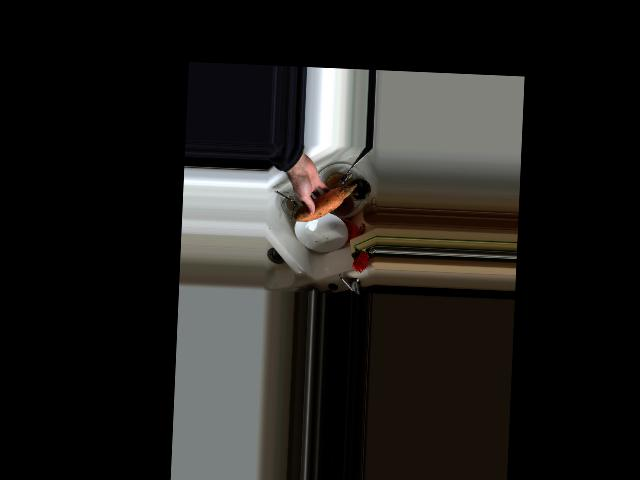sweet_potato: (293, 179, 355, 226)
